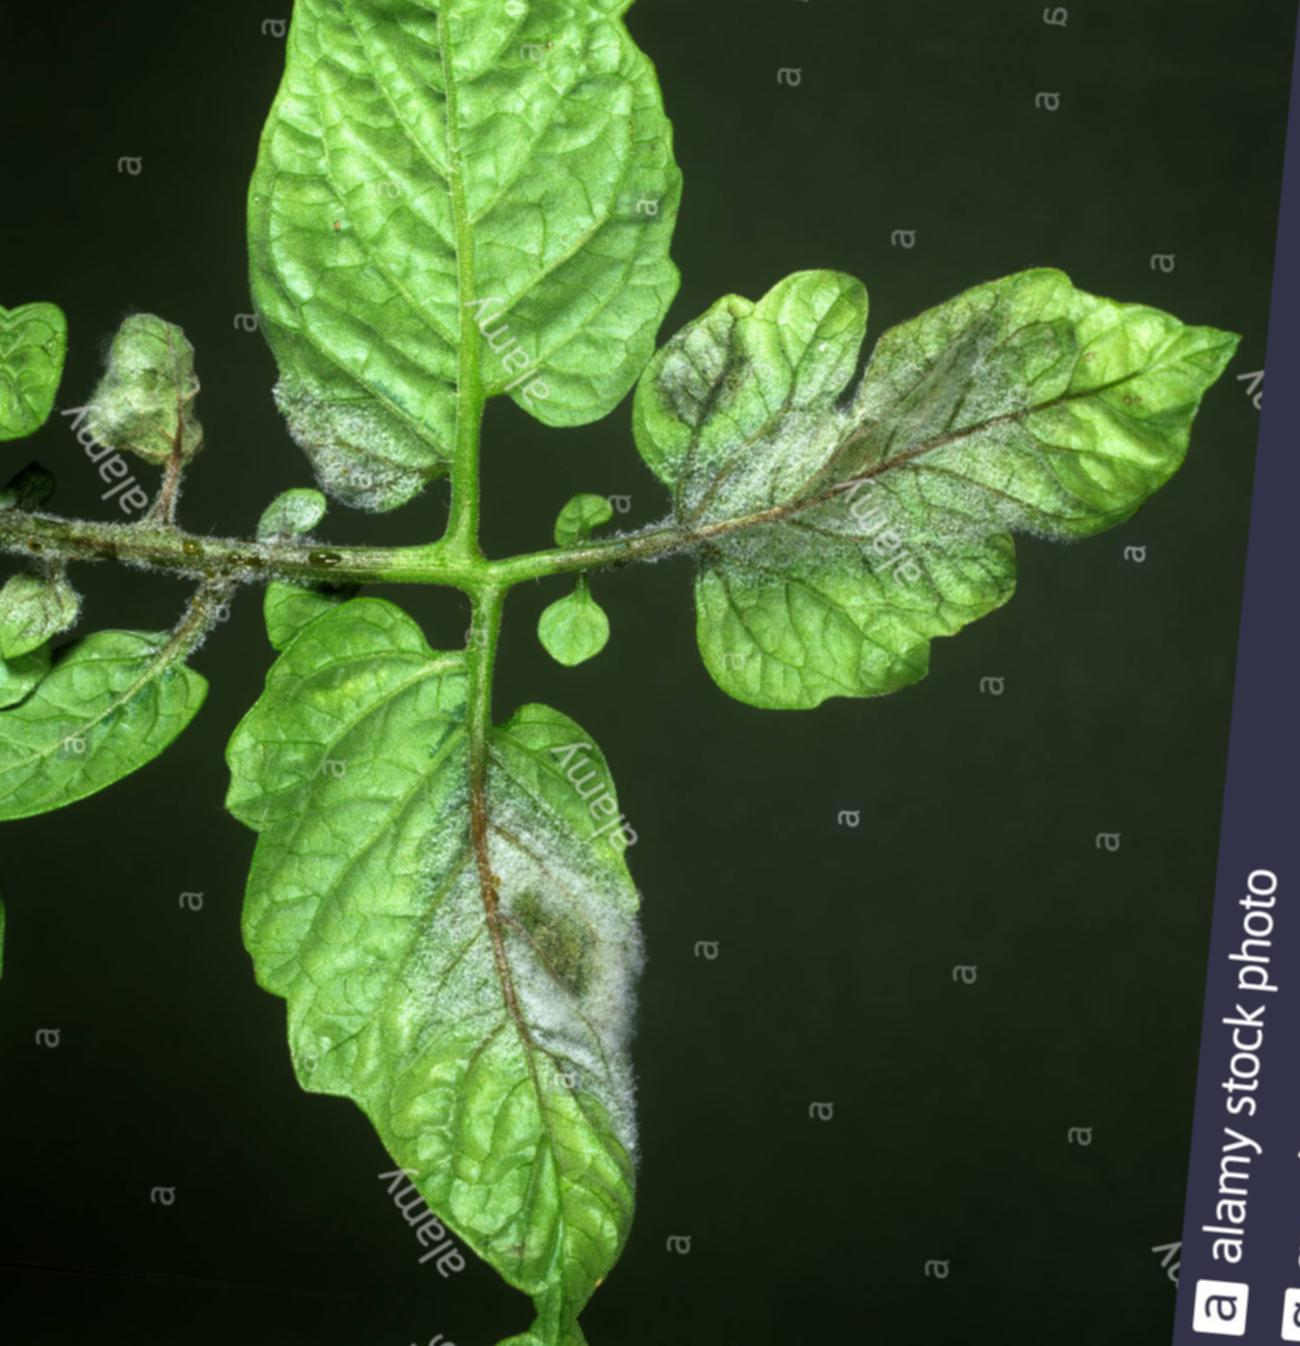Tomato leaf late blight: (157, 546, 702, 1300), (612, 218, 1257, 751), (199, 0, 726, 555)
